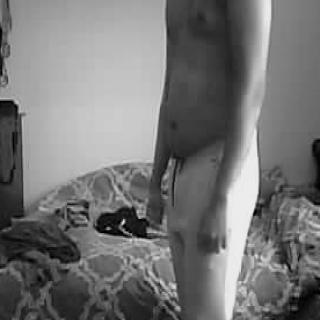White Sweatpants: (162, 121, 262, 320)
